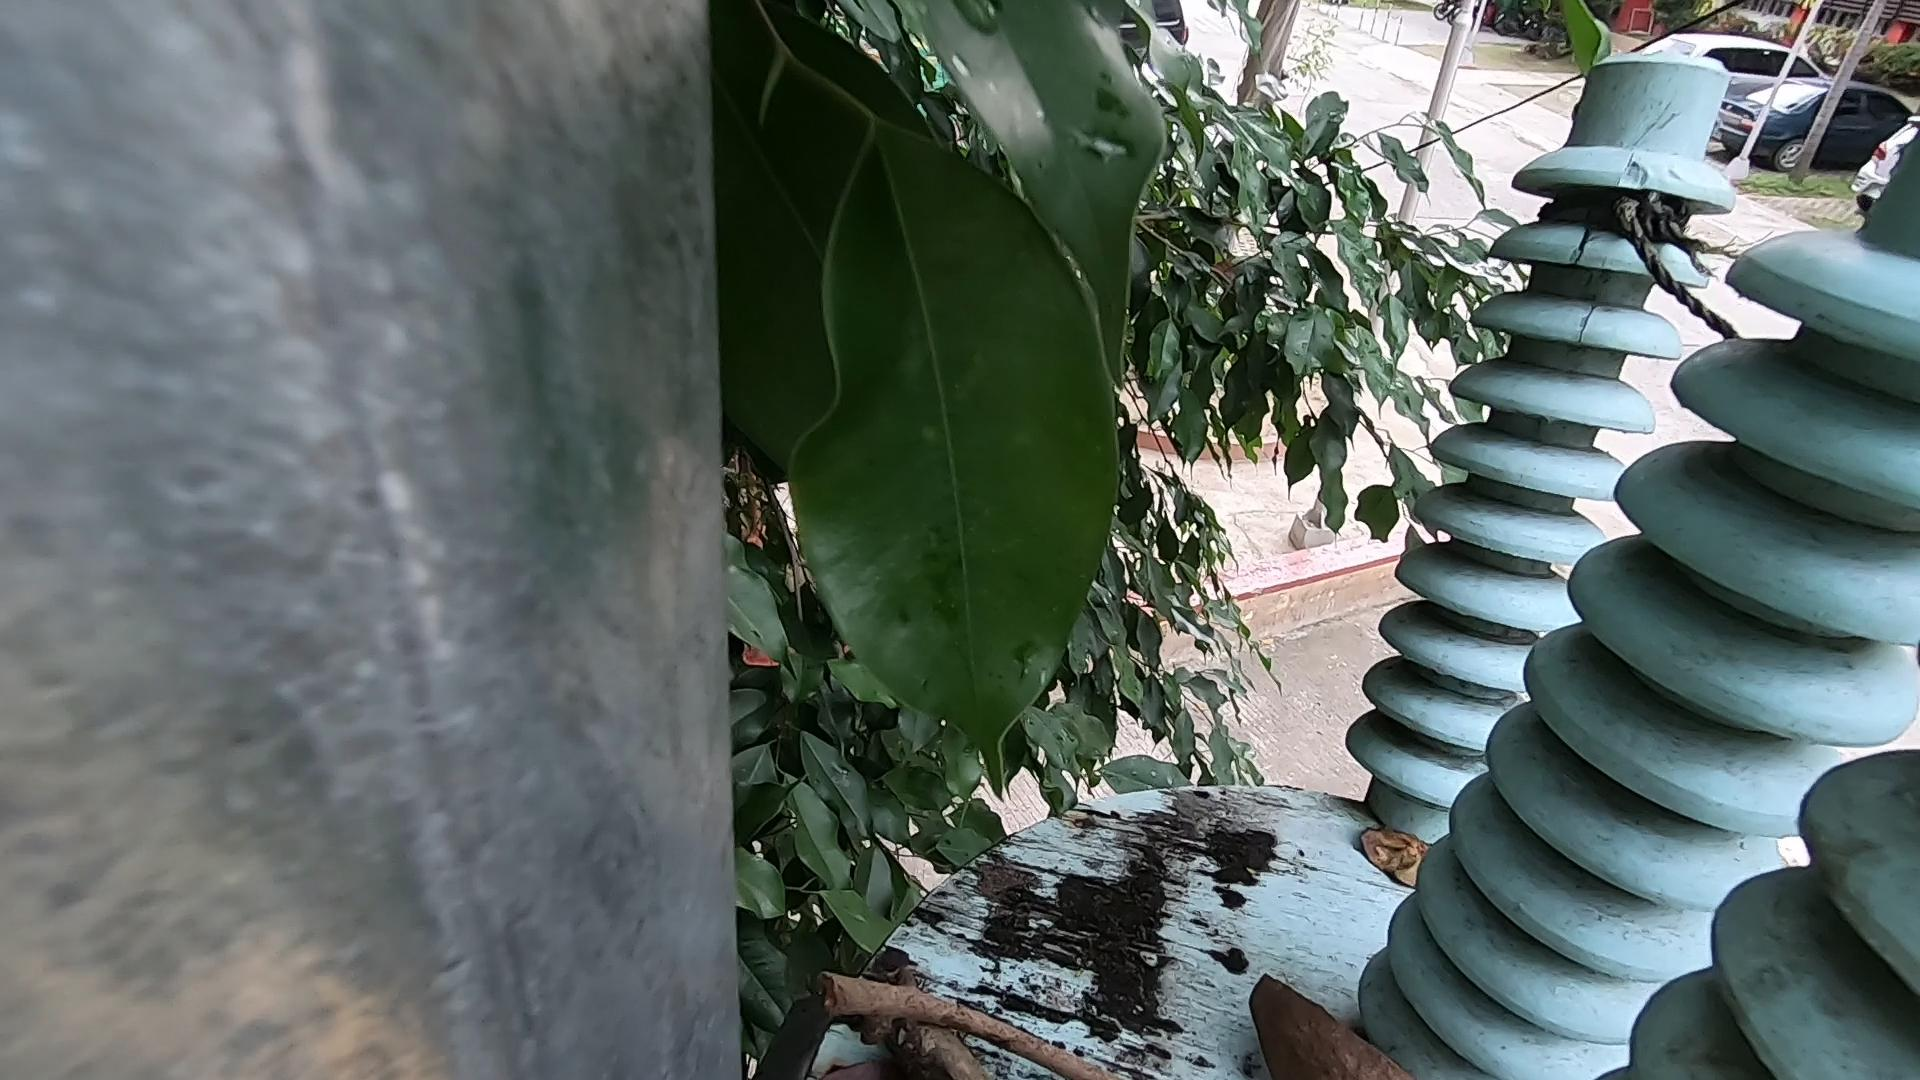branch with leaves: (849, 942, 963, 1080)
leaf: (1345, 807, 1571, 923)
mahogany fruit: (1261, 945, 1497, 1080)
tree branch: (795, 963, 1158, 1080)
